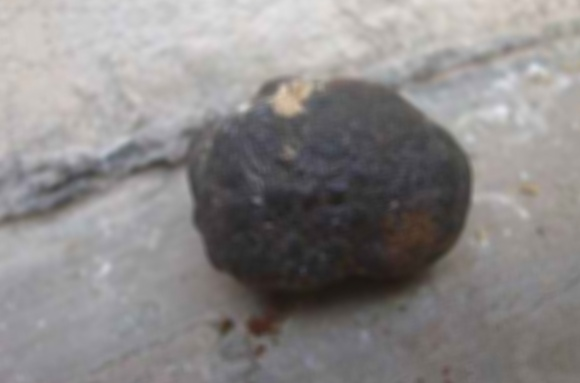halobolite: (169, 40, 497, 323)
